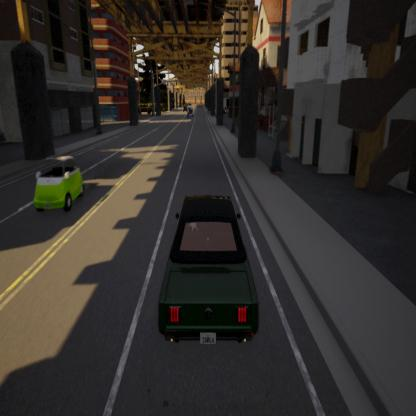Cars: (158, 197, 259, 346), (34, 154, 84, 212), (138, 103, 153, 115), (184, 101, 191, 112), (187, 105, 193, 117)
